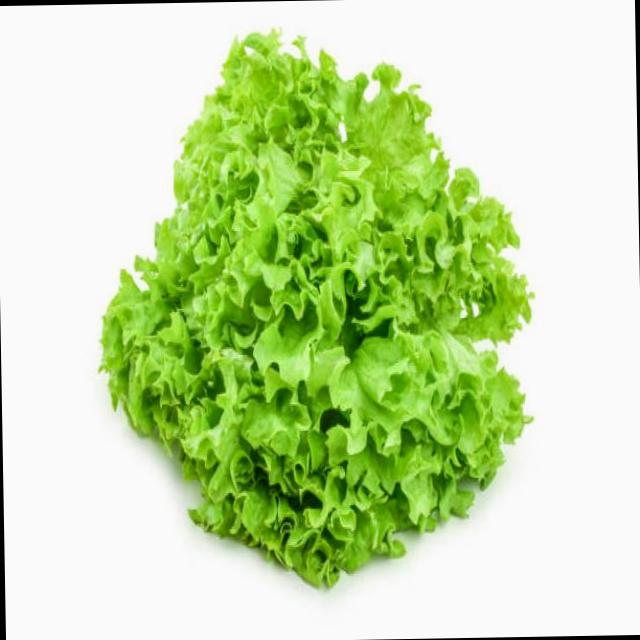Lettuce-Ready-to-Harvest: (102, 33, 528, 585)
